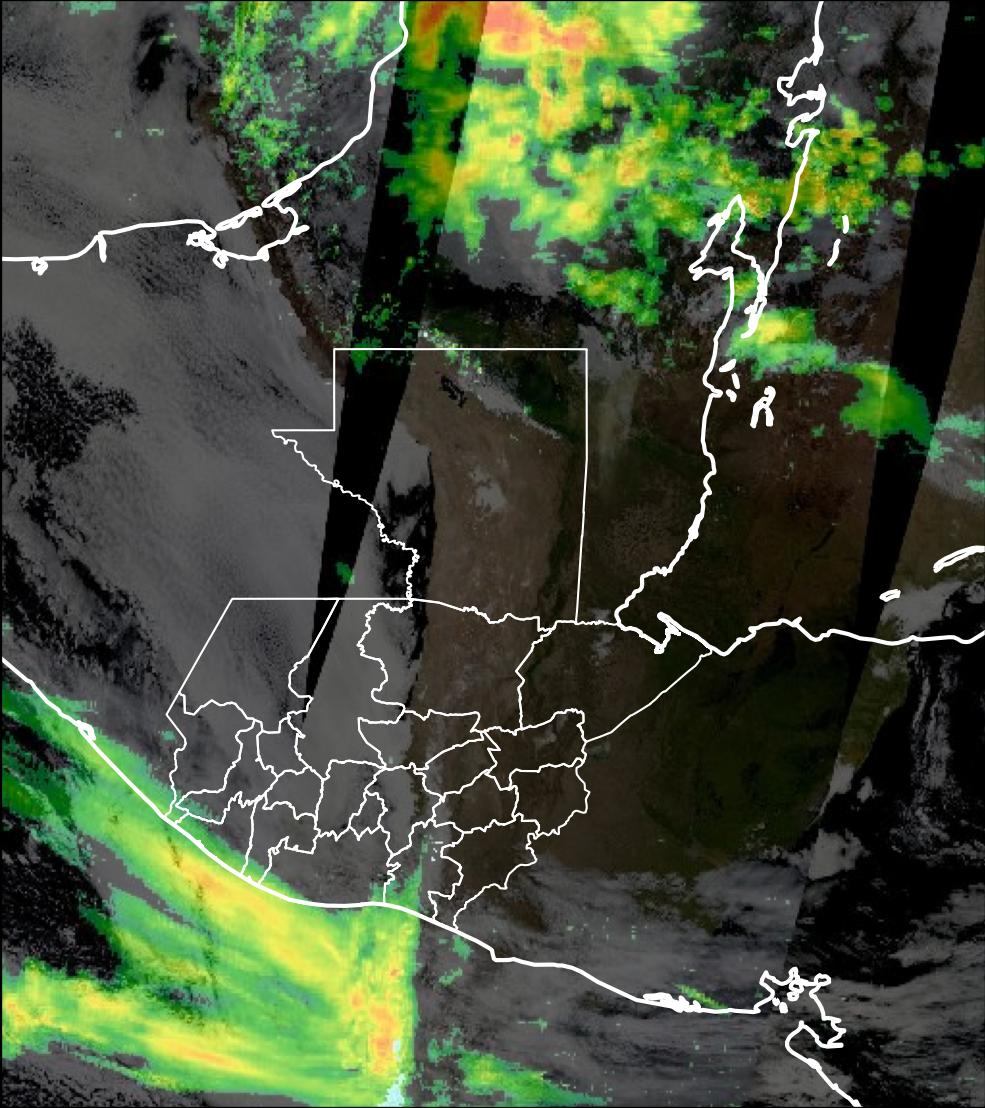precipitacion: (407, 1, 596, 142)
